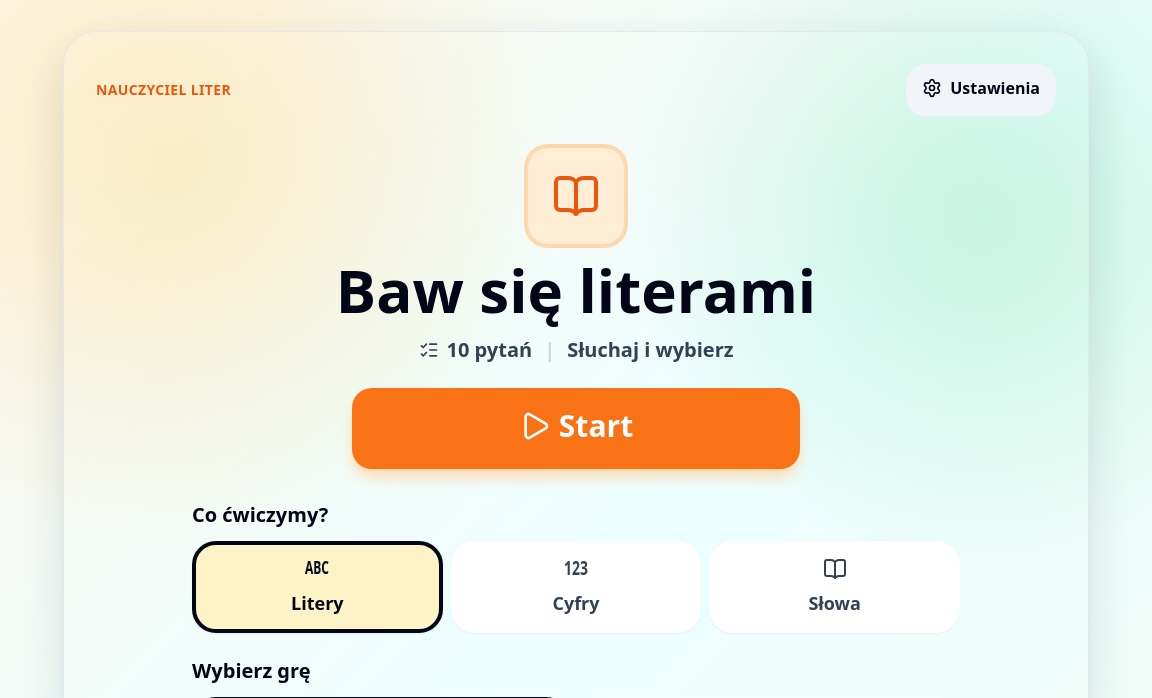
it: App › shows previously earned digit stamps on the digit tab
Step 1. Click the button "123 Cyfry" → point(576, 587), box [451, 541, 701, 633]
(page scrolled)
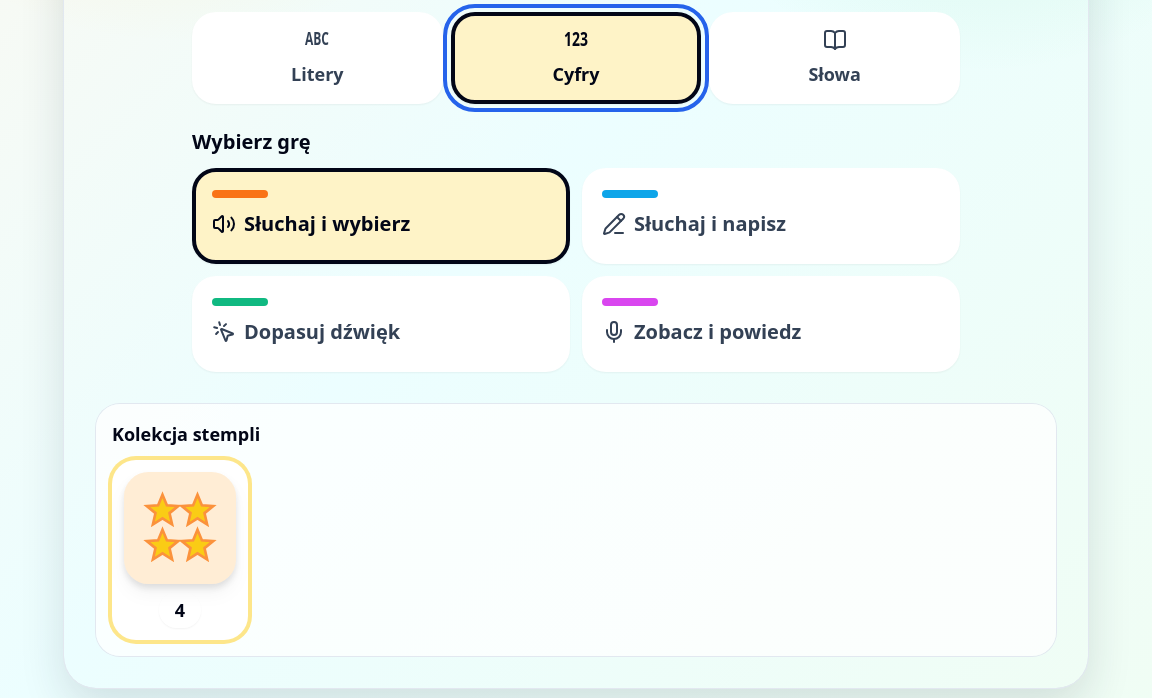
expect the button named "cyfra 4 stempel" is shown: met, box [112, 460, 248, 640]
expect the picture named "cztery gwiazdki" is shown: met, box [124, 472, 236, 584]
